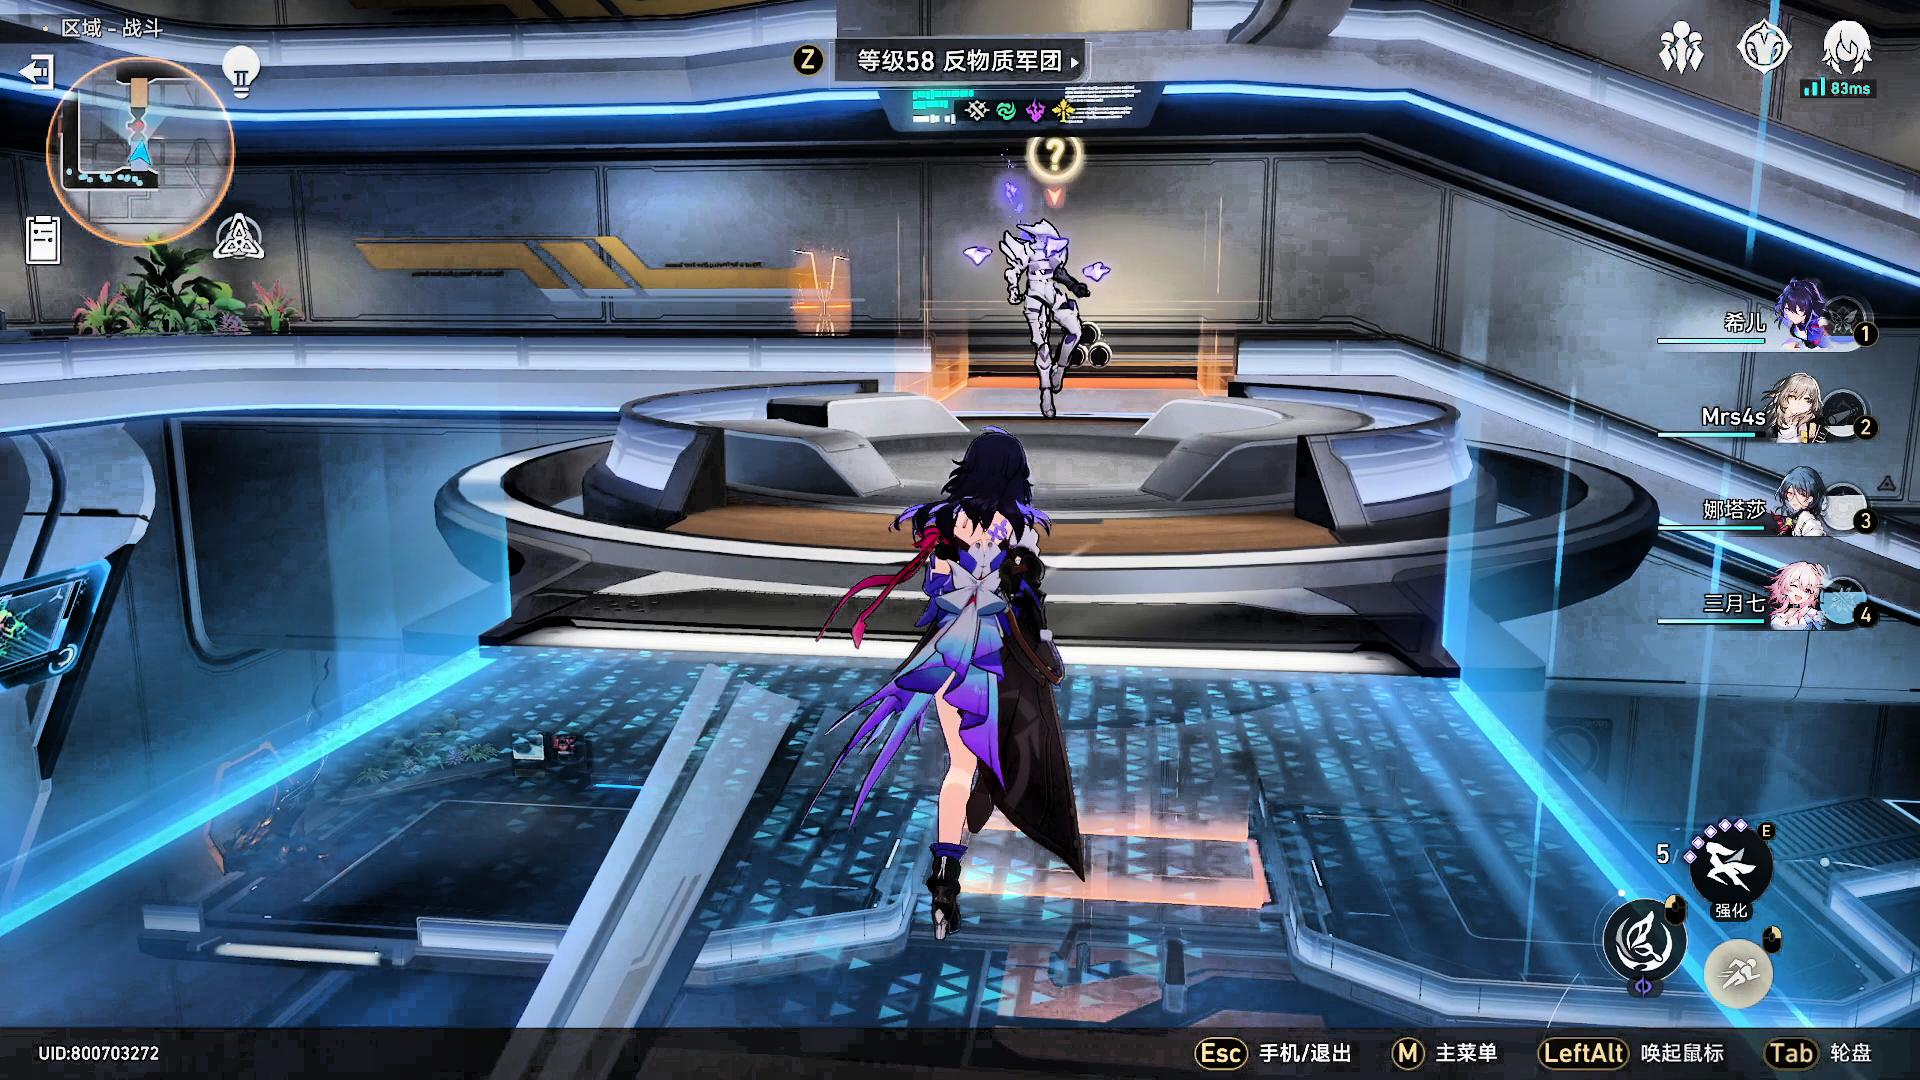Box: (1058, 318, 1118, 372)
Enemy: (977, 214, 1117, 425)
Self: (851, 430, 1098, 948)
